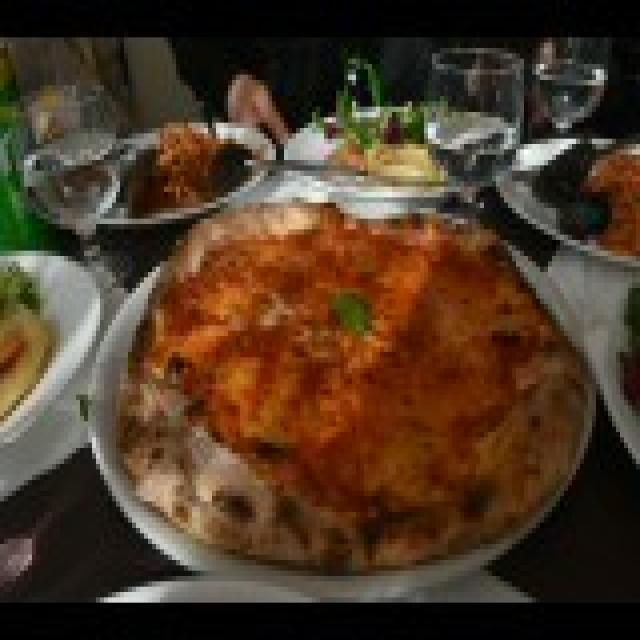Bowl: (0, 246, 100, 454)
Cup: (424, 42, 524, 186), (528, 37, 604, 146)
Plate: (84, 203, 596, 597), (20, 118, 276, 230), (280, 101, 512, 219), (492, 133, 636, 267)
